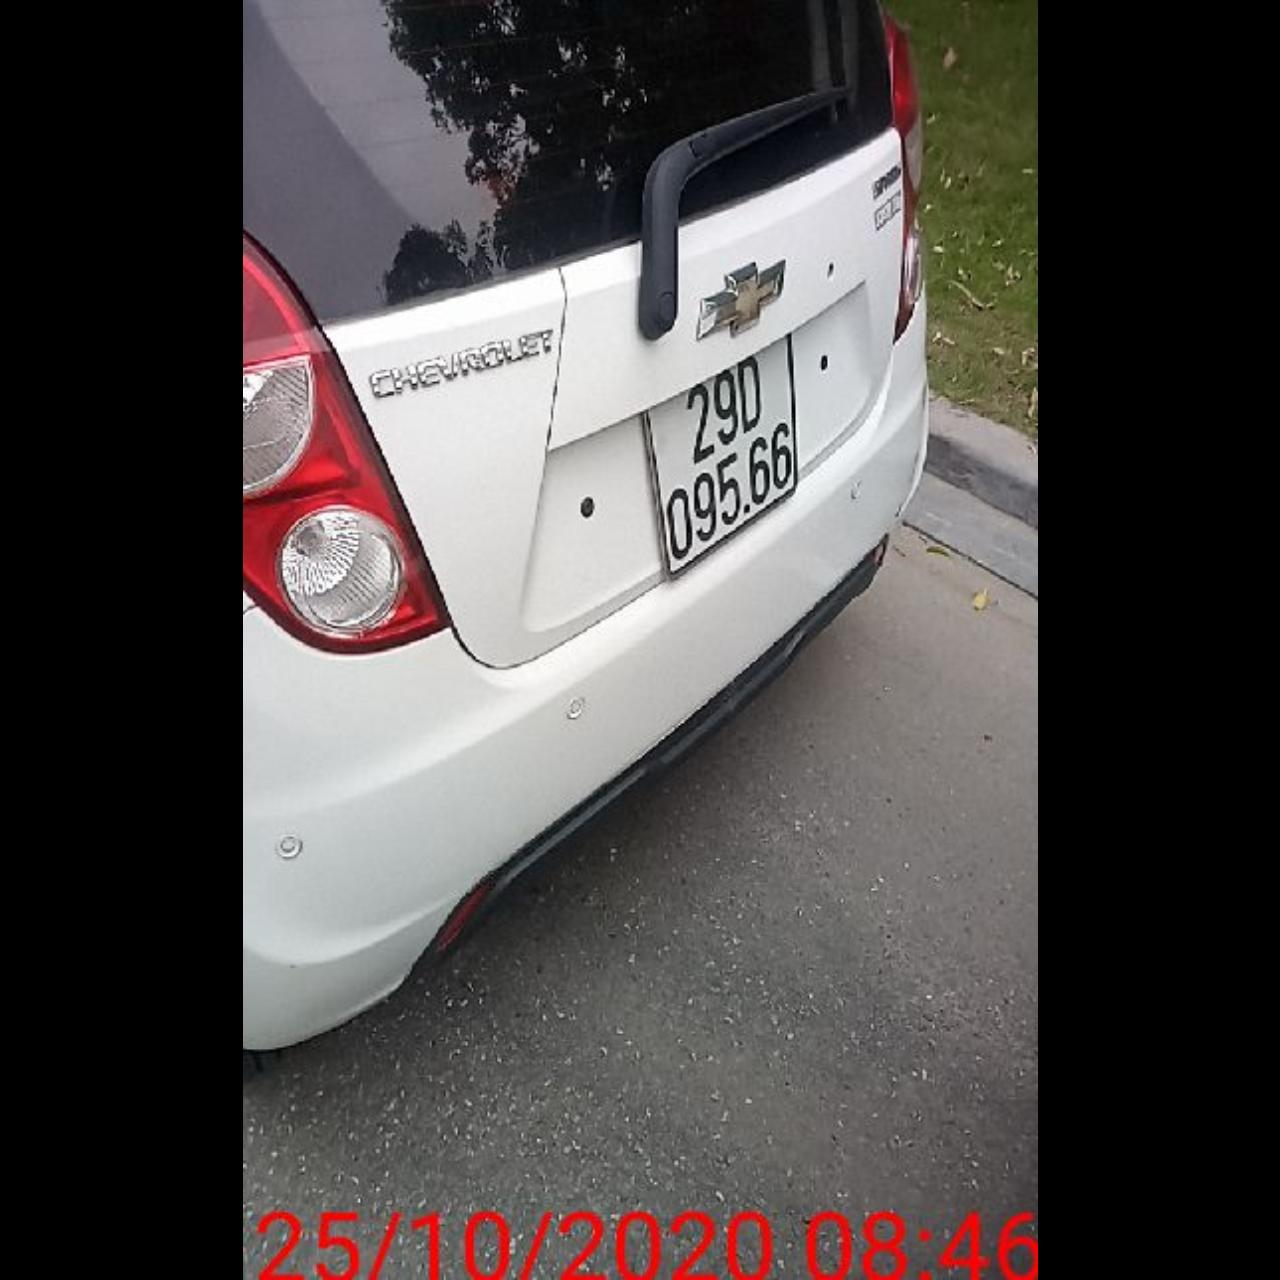bienso: (640, 330, 800, 580)
